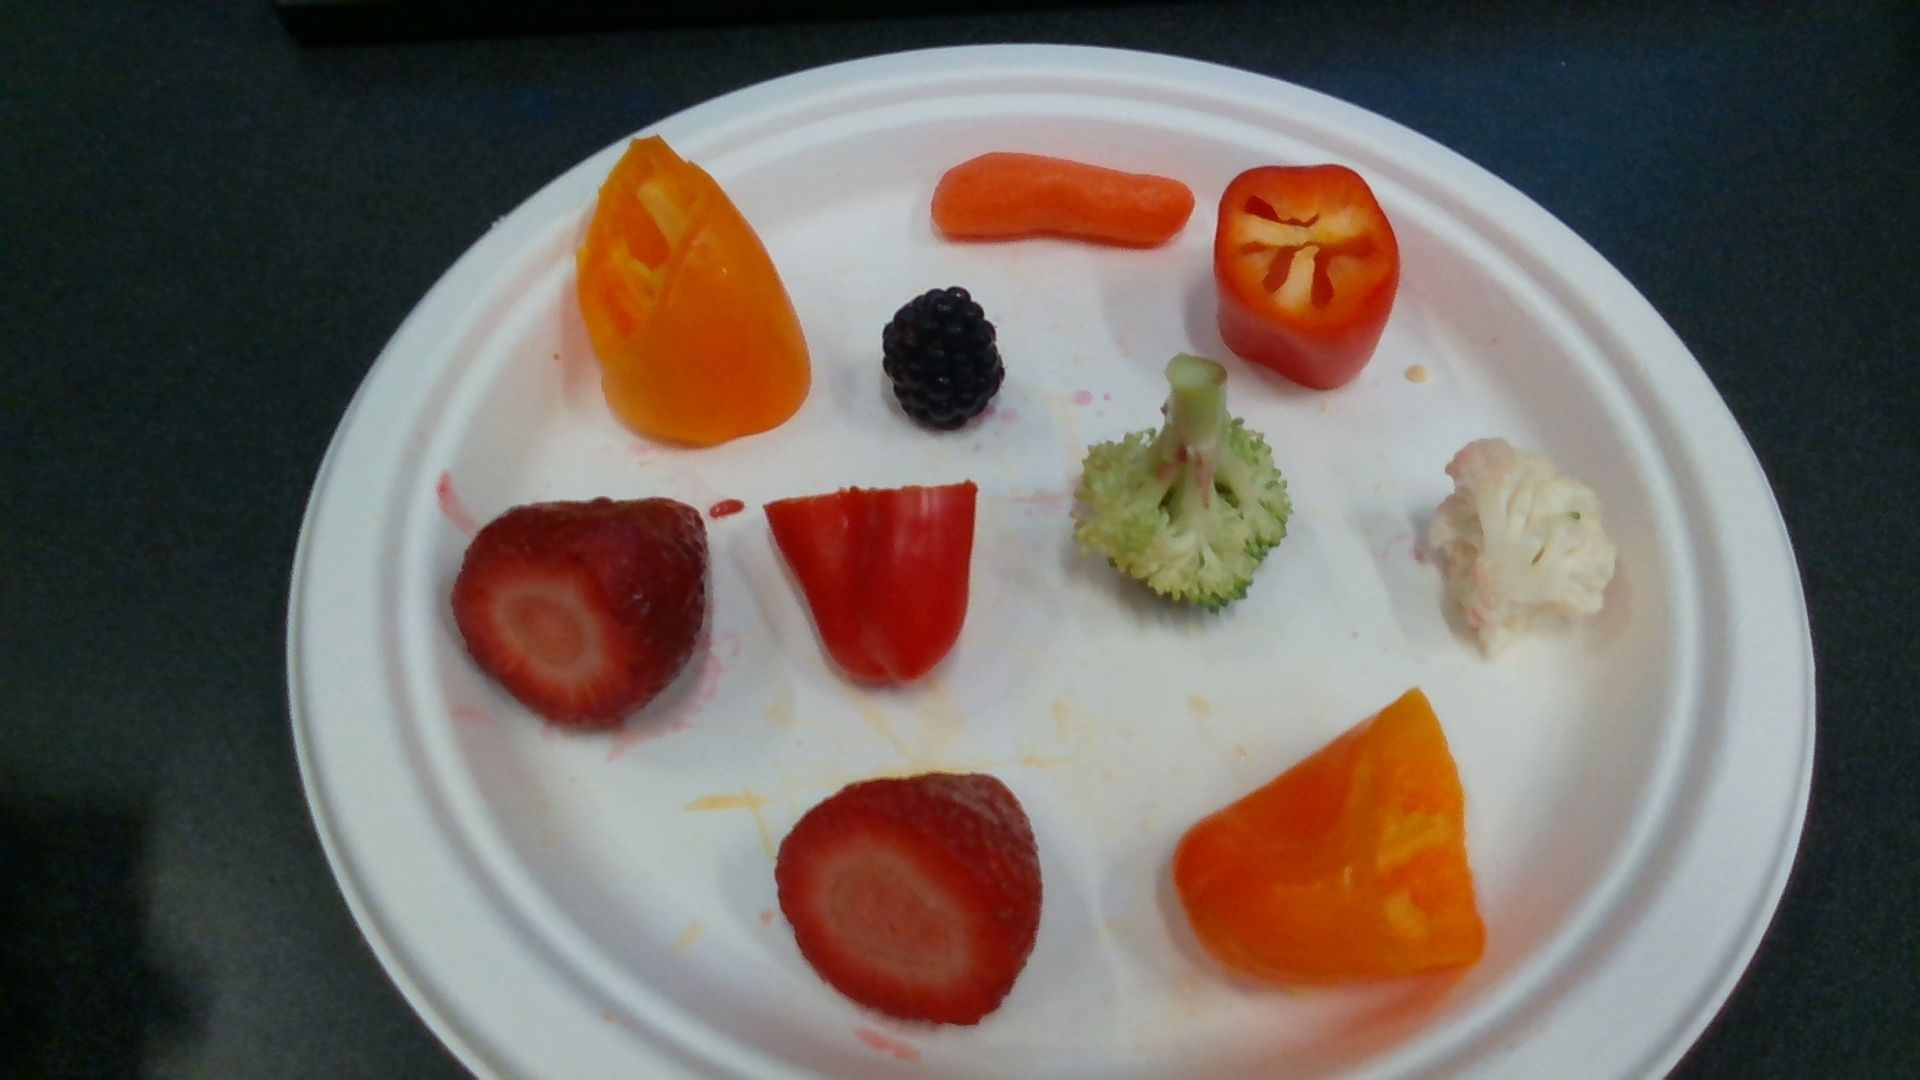bell_pepper: (1180, 691, 1485, 986), (580, 138, 808, 444), (765, 481, 975, 686), (1215, 166, 1400, 386)
blackberry: (885, 291, 1005, 433)
broccoli: (1077, 360, 1287, 611)
carrot: (934, 153, 1193, 248)
cauliflower: (1429, 440, 1614, 633)
strawberry: (777, 775, 1044, 1023), (455, 498, 709, 733)
